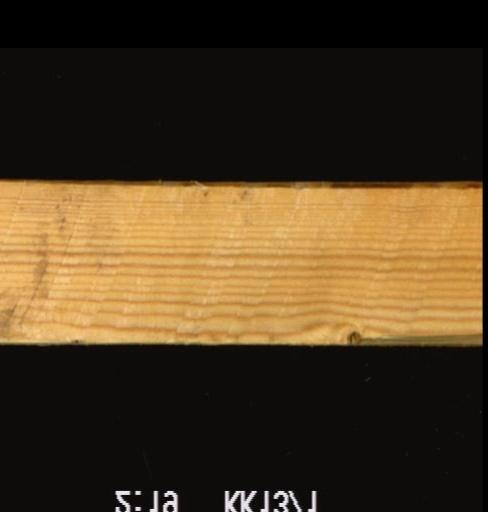edge_knot: (343, 321, 361, 344)
wave: (54, 178, 476, 196), (359, 330, 480, 344)
